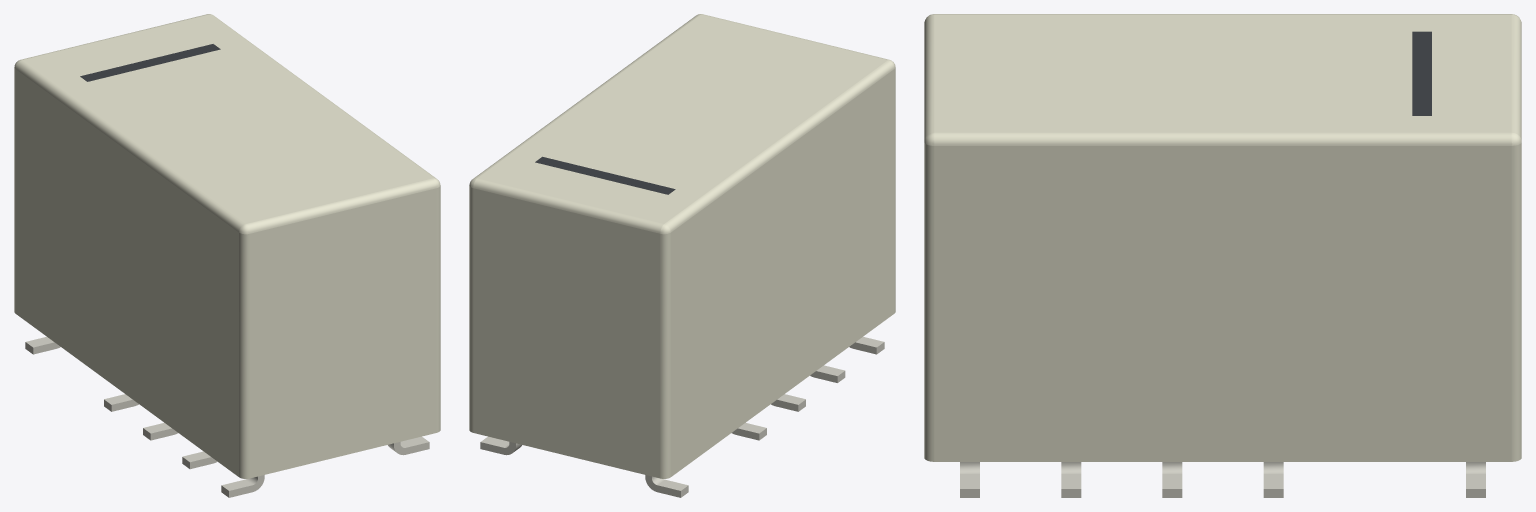
The model's file is kc-relay_dpdt_kemet_ee2_nuh_doublecoil.glb.
3 renders of one model, left to right at view 1: azimuth 30°, elevation 25°; view 2: azimuth 150°, elevation 25°; view 3: azimuth 270°, elevation 25°, orthographic. The views are drawn at different scales.
Parts seen in each view (by area): view 1: 0.75_0.75_0.6666666666666666_0, 0.6666666666666666_0.6666666666666666_0.5833333333333334_0.8, 0.08333333333333333_0.08333333333333333_0.08333333333333333_; view 2: 0.75_0.75_0.6666666666666666_0, 0.6666666666666666_0.6666666666666666_0.5833333333333334_0.8, 0.08333333333333333_0.08333333333333333_0.08333333333333333_; view 3: 0.75_0.75_0.6666666666666666_0, 0.6666666666666666_0.6666666666666666_0.5833333333333334_0.8, 0.08333333333333333_0.08333333333333333_0.08333333333333333_.
Boxes of the visible parts, bbox=[...] form: 0.75_0.75_0.6666666666666666_0: bbox=[14, 14, 440, 478]; 0.6666666666666666_0.6666666666666666_0.5833333333333334_0.8: bbox=[25, 336, 429, 497]; 0.08333333333333333_0.08333333333333333_0.08333333333333333_: bbox=[80, 44, 220, 81]; 0.75_0.75_0.6666666666666666_0: bbox=[469, 14, 895, 478]; 0.6666666666666666_0.6666666666666666_0.5833333333333334_0.8: bbox=[480, 336, 884, 497]; 0.08333333333333333_0.08333333333333333_0.08333333333333333_: bbox=[535, 156, 675, 194]; 0.75_0.75_0.6666666666666666_0: bbox=[924, 14, 1521, 461]; 0.6666666666666666_0.6666666666666666_0.5833333333333334_0.8: bbox=[960, 462, 1485, 497]; 0.08333333333333333_0.08333333333333333_0.08333333333333333_: bbox=[1412, 31, 1431, 115].
Size of the model in its own units: 0.7501 by 1 by 1.5.
